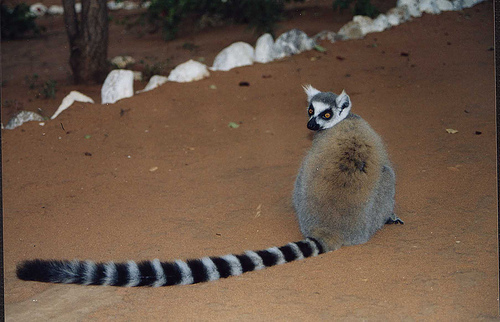cat: (14, 84, 403, 290)
